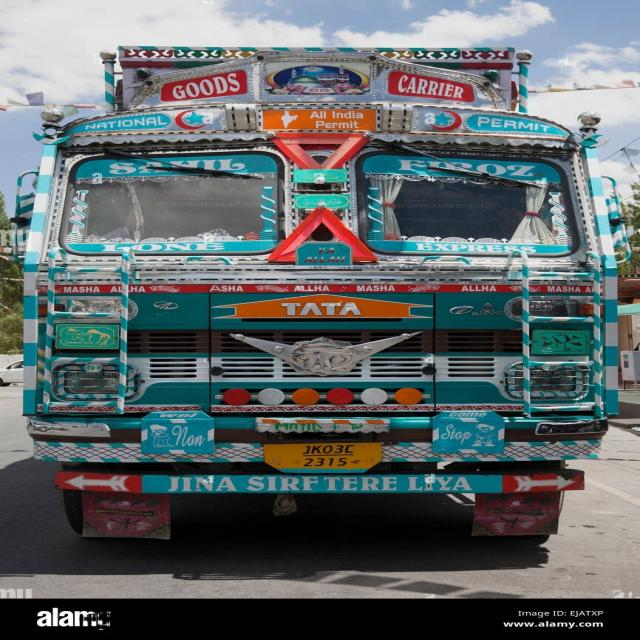truck: (16, 46, 626, 538)
